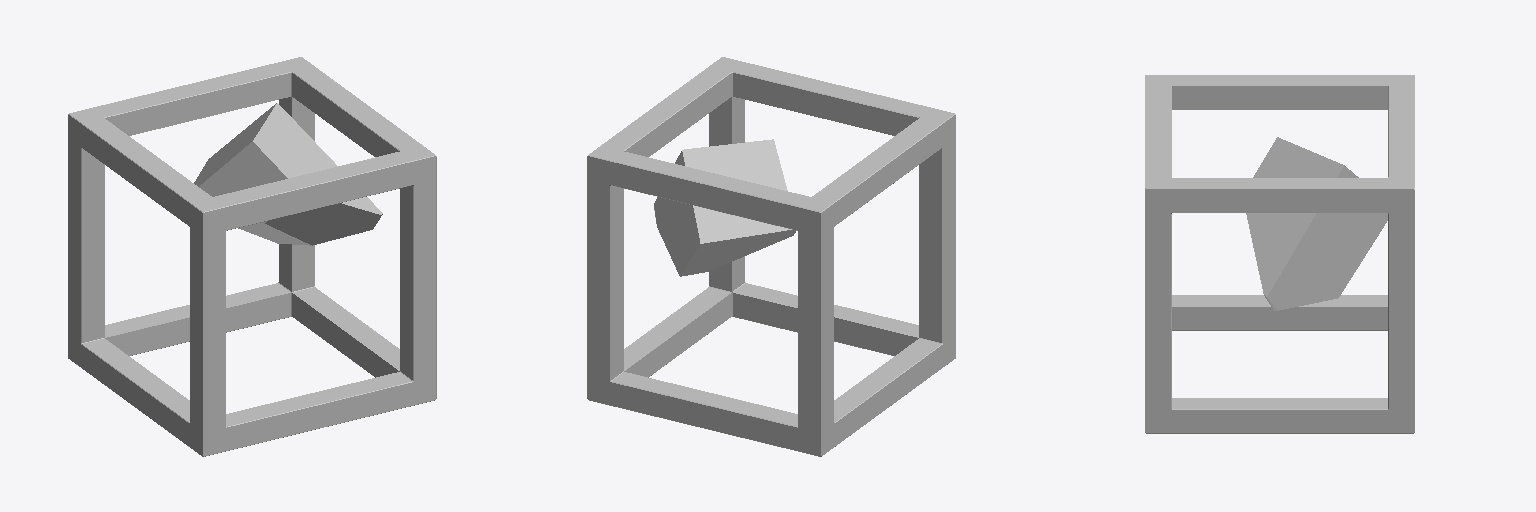
Rendered from TesseractBroken3.obj.
3 renders of one model, left to right at view 1: azimuth 30°, elevation 25°; view 2: azimuth 150°, elevation 25°; view 3: azimuth 270°, elevation 25°, orthographic.
Visible parts, largest first — view 1: Cube.002_Cube.007, Cube.002_cell.007_Cube.002_cell.006; view 2: Cube.002_Cube.007, Cube.002_cell.007_Cube.002_cell.006; view 3: Cube.002_Cube.007, Cube.002_cell.007_Cube.002_cell.006.
Boxes of the visible parts, x1=… form: Cube.002_Cube.007: x1=68, y1=57, x2=436, y2=456; Cube.002_cell.007_Cube.002_cell.006: x1=194, y1=103, x2=382, y2=245; Cube.002_Cube.007: x1=587, y1=57, x2=955, y2=456; Cube.002_cell.007_Cube.002_cell.006: x1=654, y1=139, x2=795, y2=276; Cube.002_Cube.007: x1=1145, y1=75, x2=1414, y2=433; Cube.002_cell.007_Cube.002_cell.006: x1=1246, y1=137, x2=1387, y2=310.
Size of the model in its own units: 2.48 by 2.4 by 2.4.